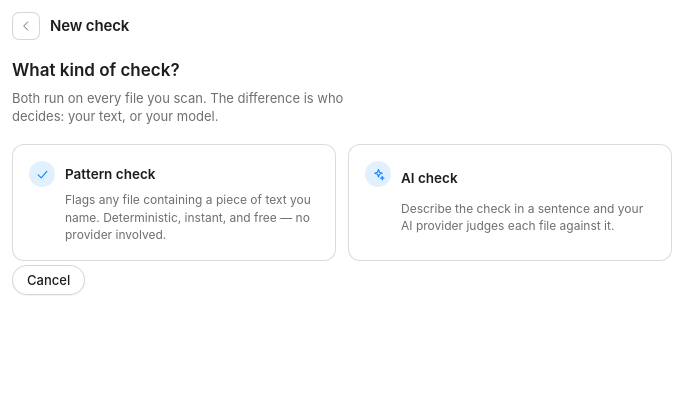
Test: AddCheck › opens the pattern form once Pattern check is chosen
The width and height of the screenshot is (689, 419).
What coordinates should you click on to do the following:
click the button "Pattern check"
I would click on:
 (174, 202)
Its box is [12,144,336,260].
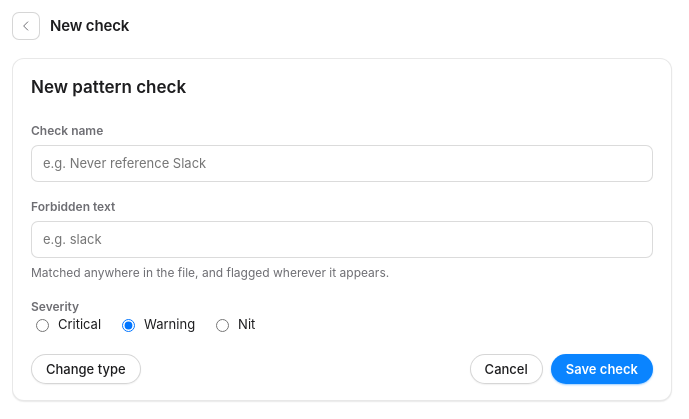
Now the field labelled "Check name" is shown, box [31,145,653,182]
Now the field labelled "Forbidden text" is shown, box [31,221,653,258]
Now the radio button labelled "Warning" is checked, box [122,319,135,332]
